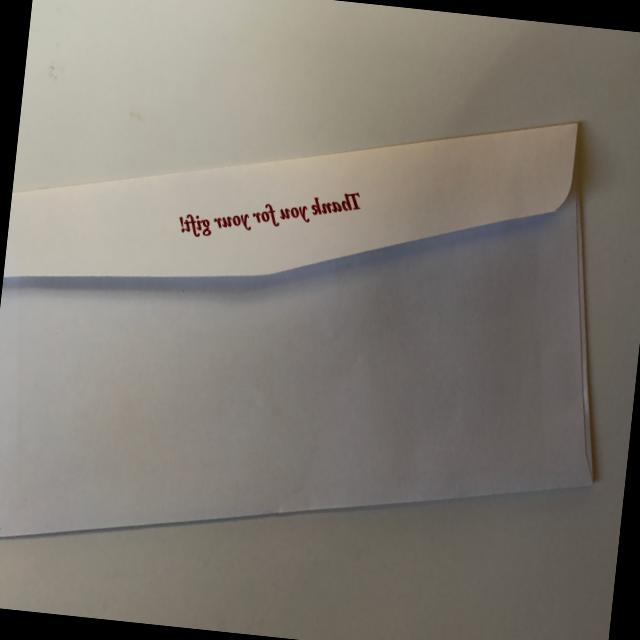Paper: (0, 56, 635, 605)
